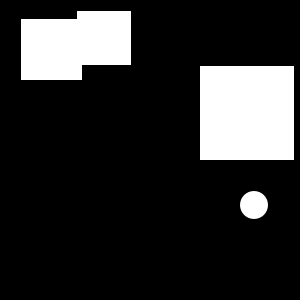circle: (200, 66, 294, 160), (21, 19, 82, 80), (77, 11, 131, 65)
rectangle: (240, 191, 268, 219)
